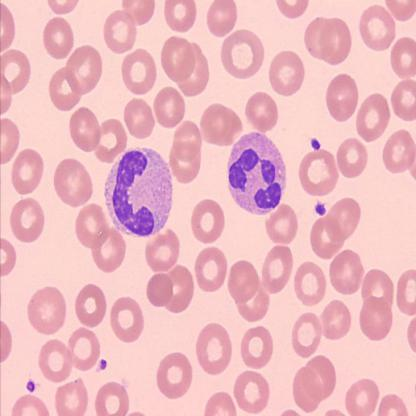Band Neutrophil: (103, 143, 174, 241), (226, 130, 288, 220)
